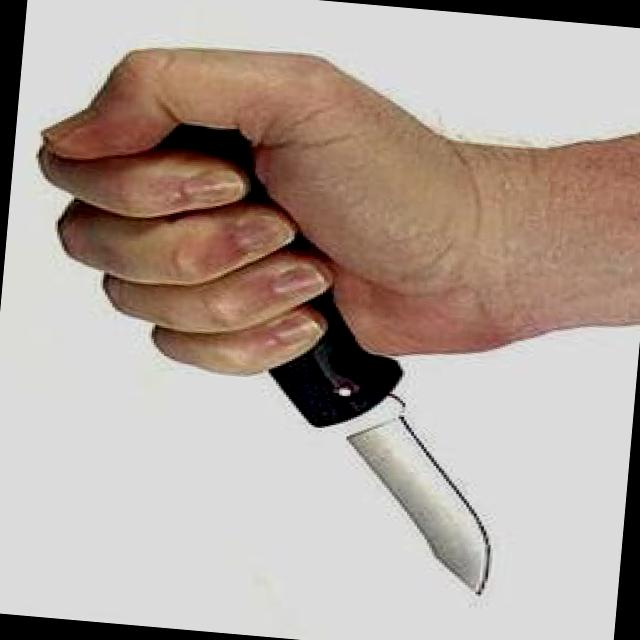knife: (116, 208, 536, 614)
